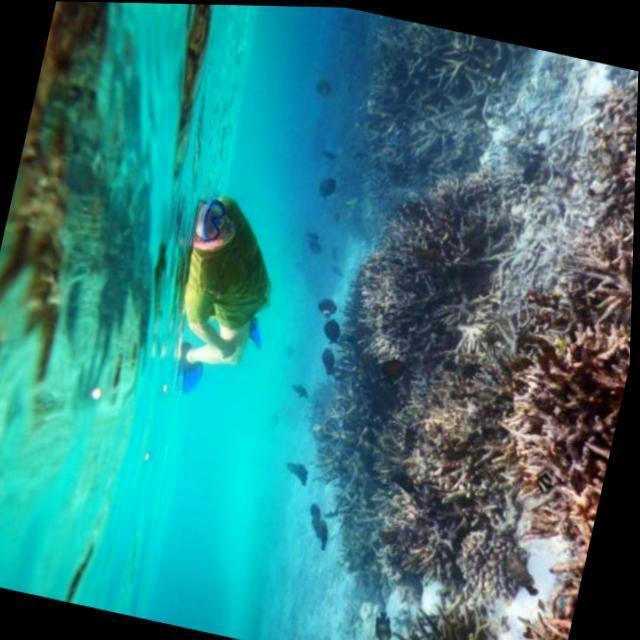Dead Coral: (278, 139, 558, 610), (520, 311, 633, 458), (573, 60, 639, 235)
